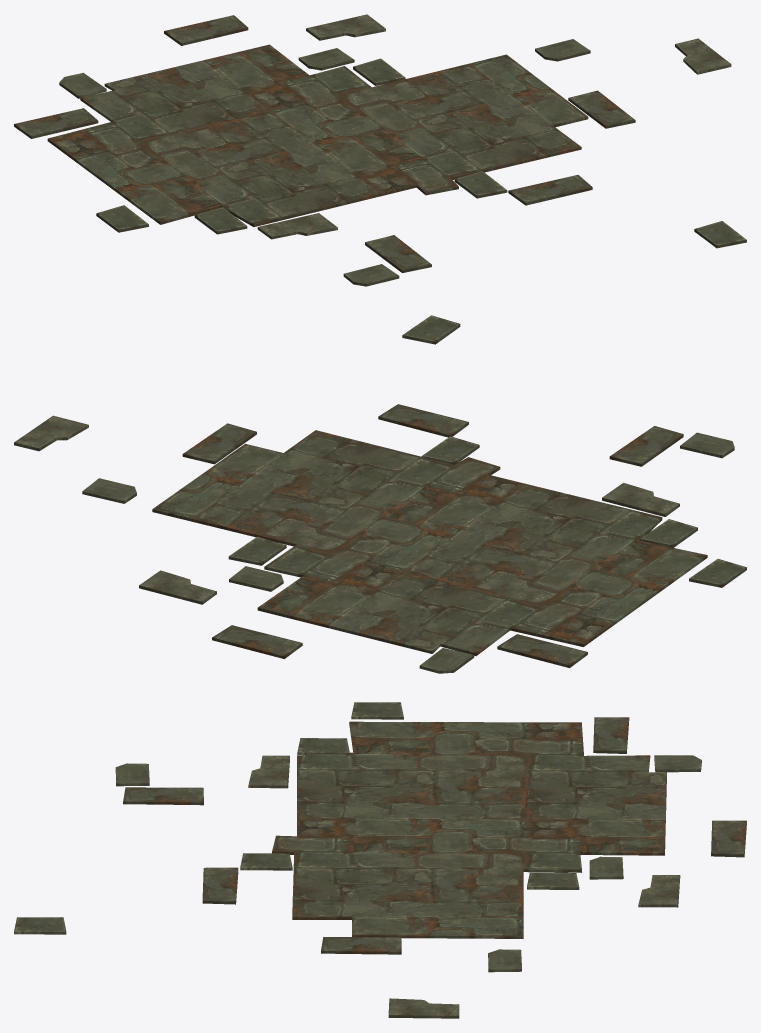
Rendered from common_yewai_shiban01.FBX.
3 views of the same model, one above another, from view 1: azimuth 30°, elevation 25°; view 2: azimuth 150°, elevation 25°; view 3: azimuth 270°, elevation 25° (orthographic). The views are drawn at different scales.
Parts seen in each view (by area): view 1: common_yewai_shiban01; view 2: common_yewai_shiban01; view 3: common_yewai_shiban01.
Part boxes in pixels (box(x1,y1,x2,y2)): common_yewai_shiban01: box(14, 14, 746, 286); common_yewai_shiban01: box(14, 315, 746, 673); common_yewai_shiban01: box(14, 702, 746, 1018).
Size of the model in its own units: 15.82 by 0.0625 by 15.62.
